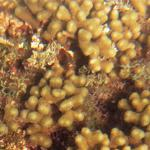alive: (3, 1, 148, 148)
